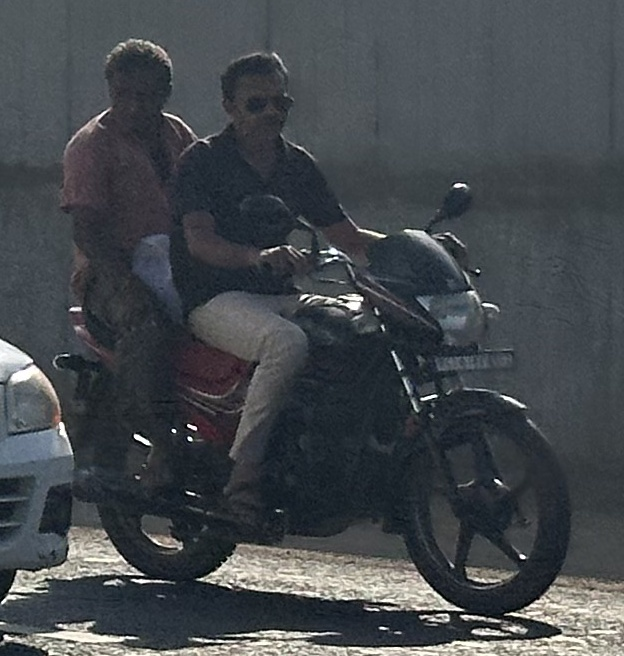BikeWithRider: (42, 26, 583, 622)
NoHelmet: (209, 45, 303, 148), (93, 31, 183, 132)
